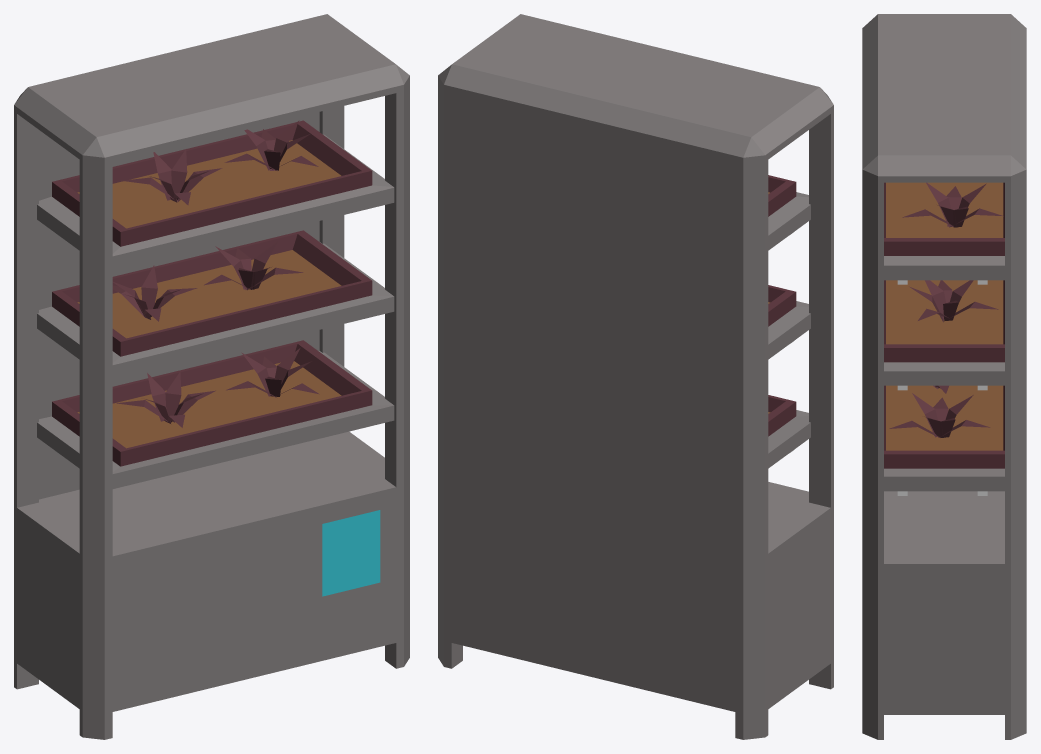
The model's file is scifi-hydroponic-open.fbx.
The picture shows the model from 3 angles, left to right: view 1: azimuth 30°, elevation 25°; view 2: azimuth 150°, elevation 25°; view 3: azimuth 270°, elevation 25°; orthographic projection. The views are drawn at different scales.
Parts seen in each view (by area): view 1: scifi-hydroponic-open; view 2: scifi-hydroponic-open; view 3: scifi-hydroponic-open.
Part boxes in pixels (bbox=[...]): scifi-hydroponic-open: bbox=[14, 14, 409, 739]; scifi-hydroponic-open: bbox=[438, 14, 833, 739]; scifi-hydroponic-open: bbox=[862, 14, 1026, 739].
Bounding box in the file's own units: 1.32 × 2.3 × 0.592.
